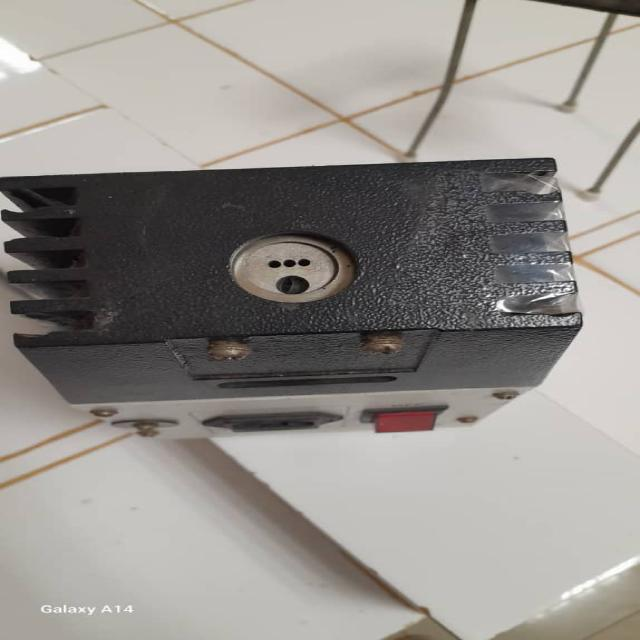Melting Point Apparatus: (9, 172, 582, 444)
